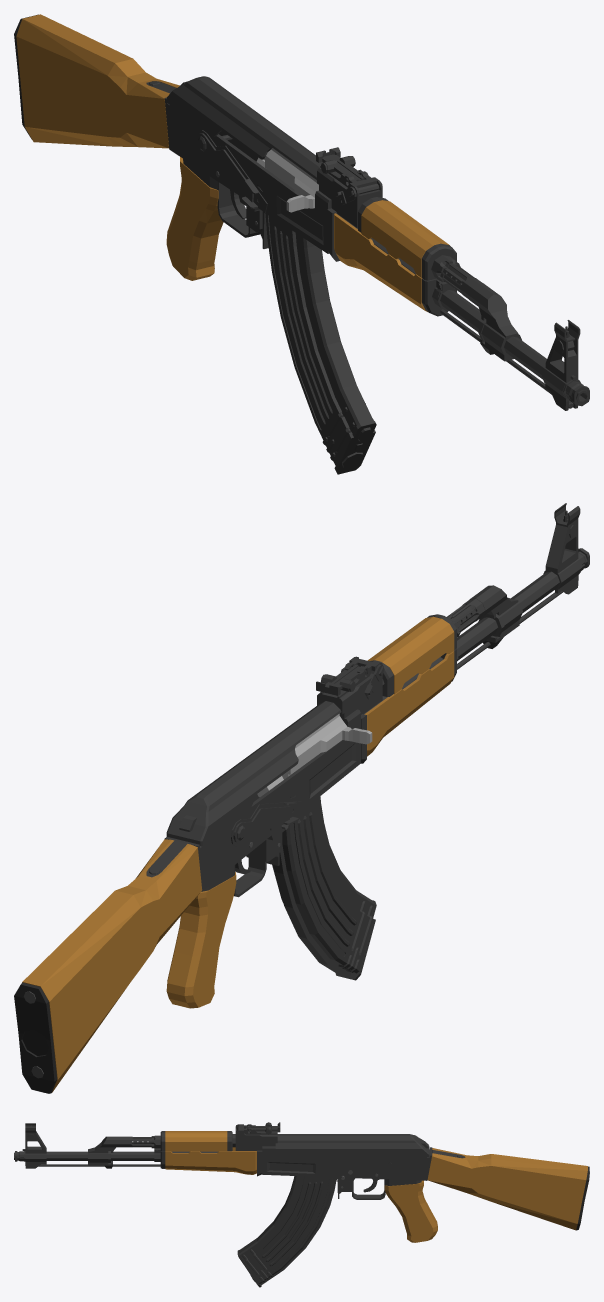
The model's file is ak-platform.glb.
3 renders of one model, top to bottom at view 1: azimuth 30°, elevation 25°; view 2: azimuth 150°, elevation 25°; view 3: azimuth 270°, elevation 25°, orthographic. The views are drawn at different scales.
Visible parts, largest first — view 1: AK-47 2, AK-47 2 Buttstock 1, AK-47 2 Mag 1, AK-47 2 Selector 1, AK-47 2 Bolt Carrier 1, AK-47 2 Rearsight 1; view 2: AK-47 2, AK-47 2 Buttstock 1, AK-47 2 Mag 1, AK-47 2 Bolt Carrier 1, AK-47 2 Selector 1; view 3: AK-47 2, AK-47 2 Buttstock 1, AK-47 2 Mag 1, AK-47 2 Cleaning Rod 1.
Part boxes in pixels (box(x1,y1,x2,y2)): AK-47 2: box(164, 76, 589, 410); AK-47 2 Buttstock 1: box(14, 14, 179, 148); AK-47 2 Mag 1: box(265, 213, 376, 474); AK-47 2 Selector 1: box(197, 130, 267, 213); AK-47 2 Bolt Carrier 1: box(264, 148, 318, 212); AK-47 2 Rearsight 1: box(316, 147, 364, 181); AK-47 2: box(164, 503, 589, 1008); AK-47 2 Buttstock 1: box(14, 839, 202, 1093); AK-47 2 Mag 1: box(272, 796, 376, 980); AK-47 2 Bolt Carrier 1: box(282, 713, 372, 779); AK-47 2 Selector 1: box(231, 801, 301, 846); AK-47 2: box(14, 1123, 437, 1242); AK-47 2 Buttstock 1: box(427, 1148, 589, 1230); AK-47 2 Mag 1: box(237, 1176, 338, 1287); AK-47 2 Cleaning Rod 1: box(38, 1164, 160, 1166).
Size of the model in its own units: 0.061 by 0.2919 by 0.9494.
